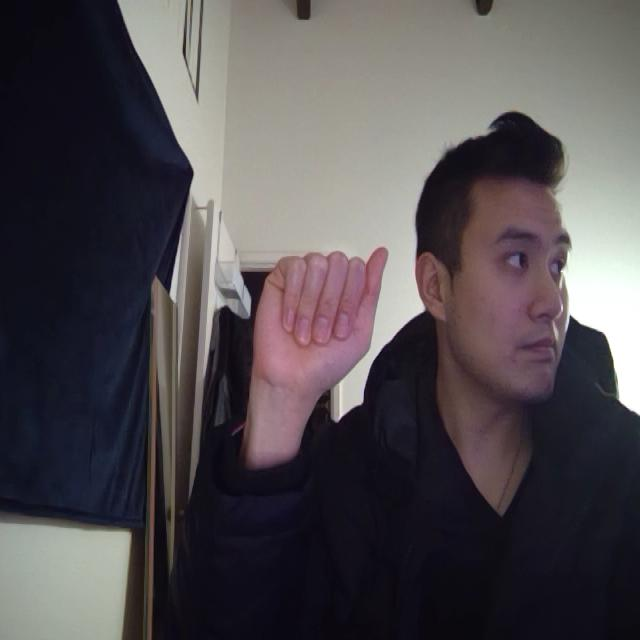A: (230, 219, 416, 433)
